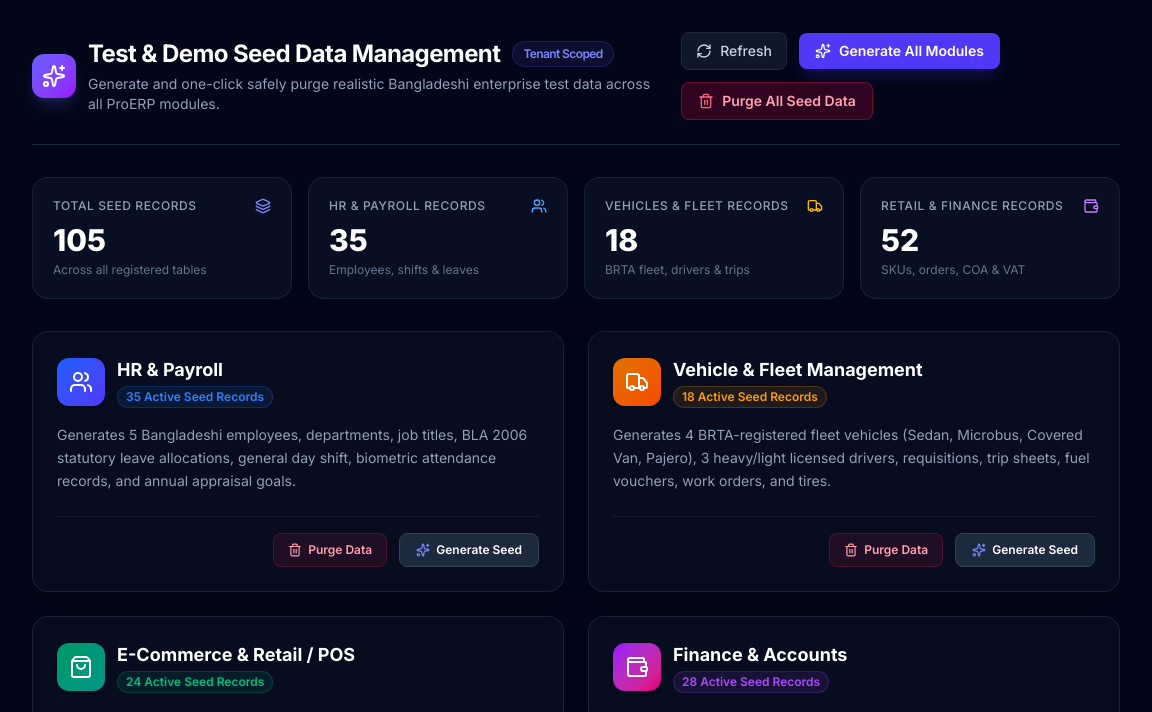
Scenario: Administration - Seed Data Management Console › opens purge confirmation dialog and executes purge
The image size is (1152, 712).
# Click on "Purge All Seed Data"
Click the button "Purge All Seed Data" at coordinates (777, 101), box [681,82,873,120]
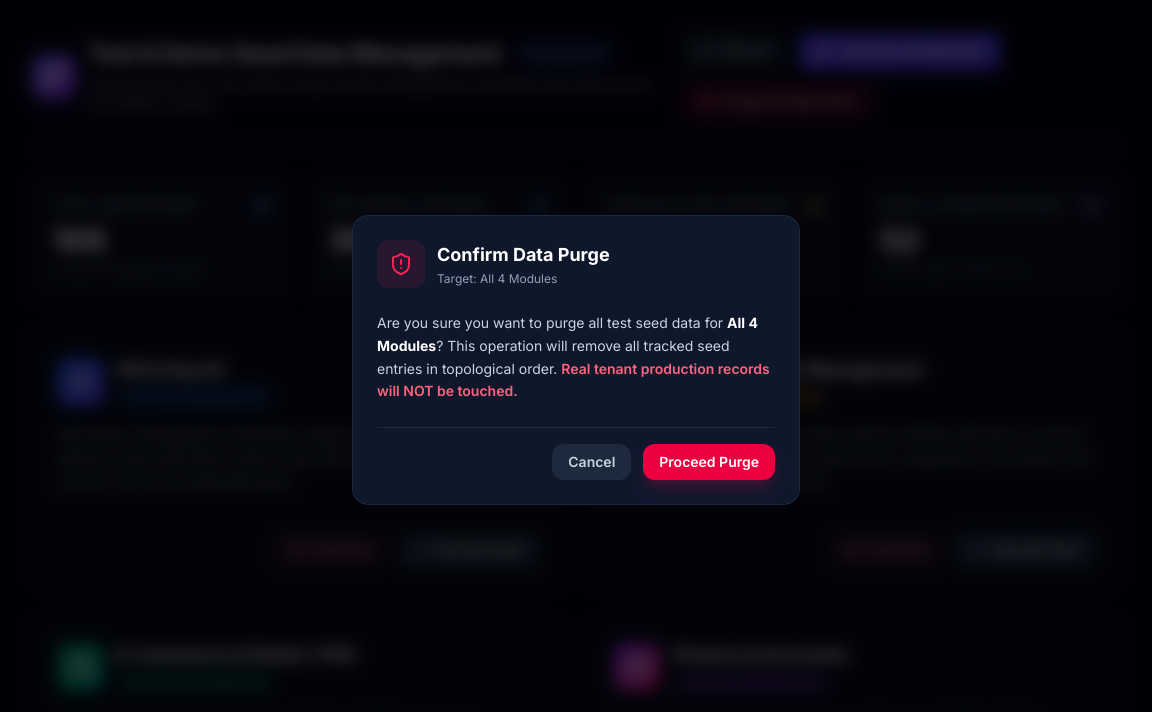
Now the heading "Confirm Data Purge" is shown, box [437,241,610,269]
Now the text "Real tenant production records will NOT be touched." is shown, box [377,360,770,399]
Click the button "Proceed Purge" at coordinates (709, 462), box [643,444,775,480]
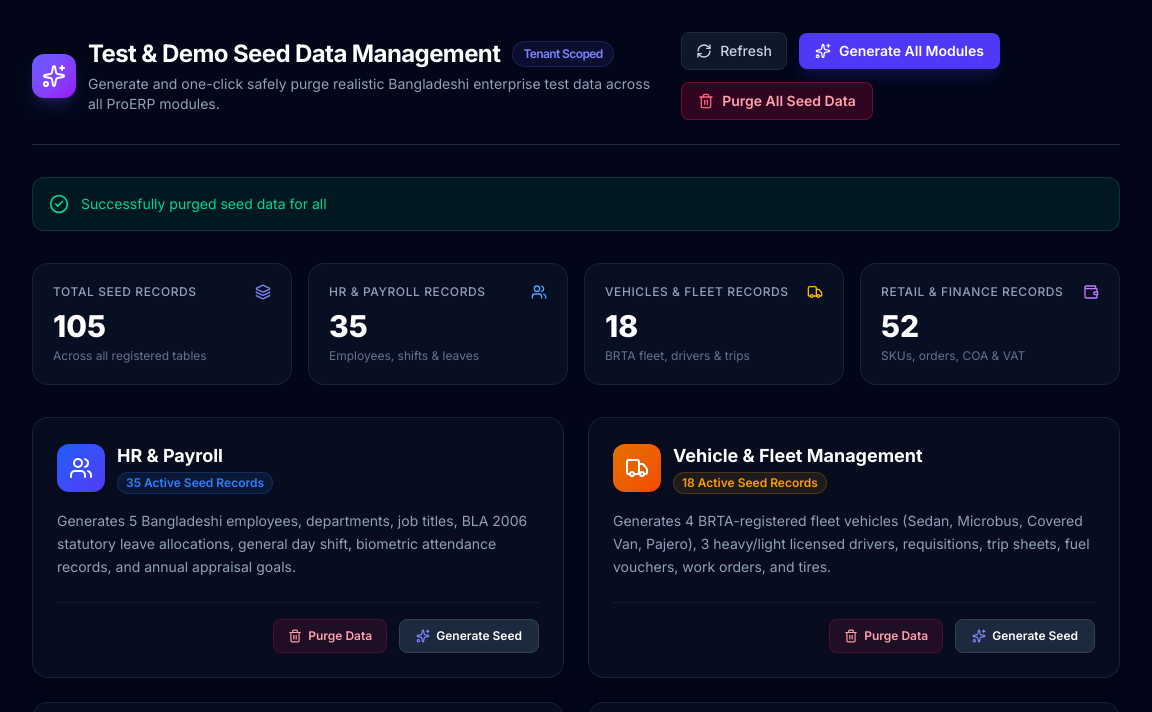
Now the text "Successfully purged seed data for all" is shown, box [81,194,327,214]
